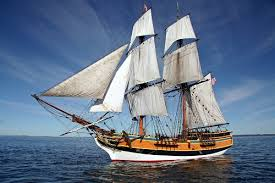tau_dansu: (51, 21, 241, 162)
